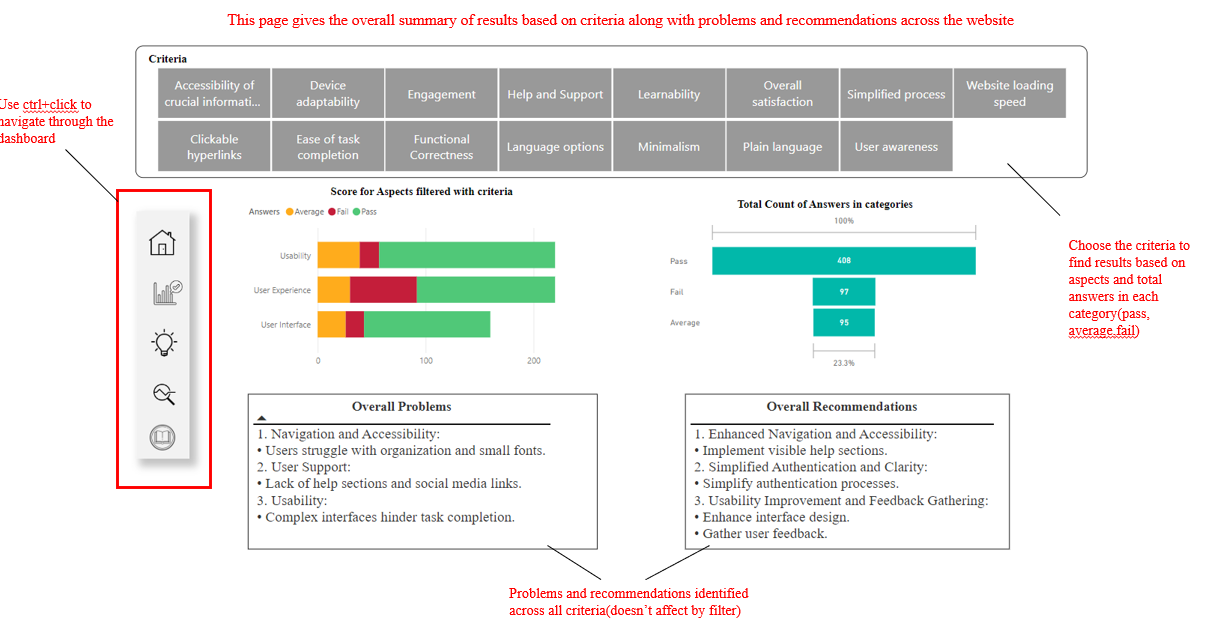

The page's visual inventory and layout, read from the dashboard file:
{"tool":"powerbi","page":{"name":"Summary","canvas":[1280,720],"ordinal":1},"visuals":[{"type":"barChart","title":"Score for Aspects filtered with criteria","fields":{"Category":["Website Evaluation (2).Aspects"],"Series":["Website Evaluation (2).Answers"],"Y":["CountNonNull(Website Evaluation (2).Answers)"]},"box":[157.1,208.6,461.4,245.7],"z":0},{"type":"funnel","title":"Total Count of Answers in categories","fields":{"Category":["Website Evaluation (2).Answers"],"Y":["CountNonNull(Website Evaluation (2).Criteria)"]},"box":[708.6,225.7,414.3,228.6],"z":1000},{"type":"slicer","title":"Criteria","fields":{"Values":["Website Evaluation (2).Criteria"]},"box":[15.1,27.4,1243.2,172.9],"z":2000},{"type":"tableEx","fields":{"Values":["Summary.Overall Problems"]},"box":[161.4,481.4,457.1,202.9],"z":3000},{"type":"tableEx","fields":{"Values":["Summary.Overall Recommendations"]},"box":[732.9,481.4,424.3,202.9],"z":4000},{"type":"textbox","box":[15.9,243.3,68.5,322.8],"z":4001},{"type":"image","box":[27.1,255.7,45.7,58.6],"z":4002},{"type":"image","box":[14.3,391.4,75.7,48.6],"z":4003},{"type":"image","box":[31.4,454.3,41.4,55.7],"z":4004},{"type":"image","box":[31.4,314.3,51.4,65.7],"z":4005},{"type":"image","box":[15.9,511.1,67.3,55],"z":4006}]}

Visuals, with their boxes on the page's 1280x720 design canvas (x1, y1, x2, y2). These are canvas units, not pixel positions in the 1206x638 screenshot, which may show the page scaled, cropped or inside an application window:
"Score for Aspects filtered with criteria" barChart: 157, 209, 618, 454
"Total Count of Answers in categories" funnel: 709, 226, 1123, 454
"Criteria" slicer: 15, 27, 1258, 200
tableEx - Summary.Overall Problems: 161, 481, 618, 684
tableEx - Summary.Overall Recommendations: 733, 481, 1157, 684
textbox: 16, 243, 84, 566
image: 27, 256, 73, 314
image: 14, 391, 90, 440
image: 31, 454, 73, 510
image: 31, 314, 83, 380
image: 16, 511, 83, 566
